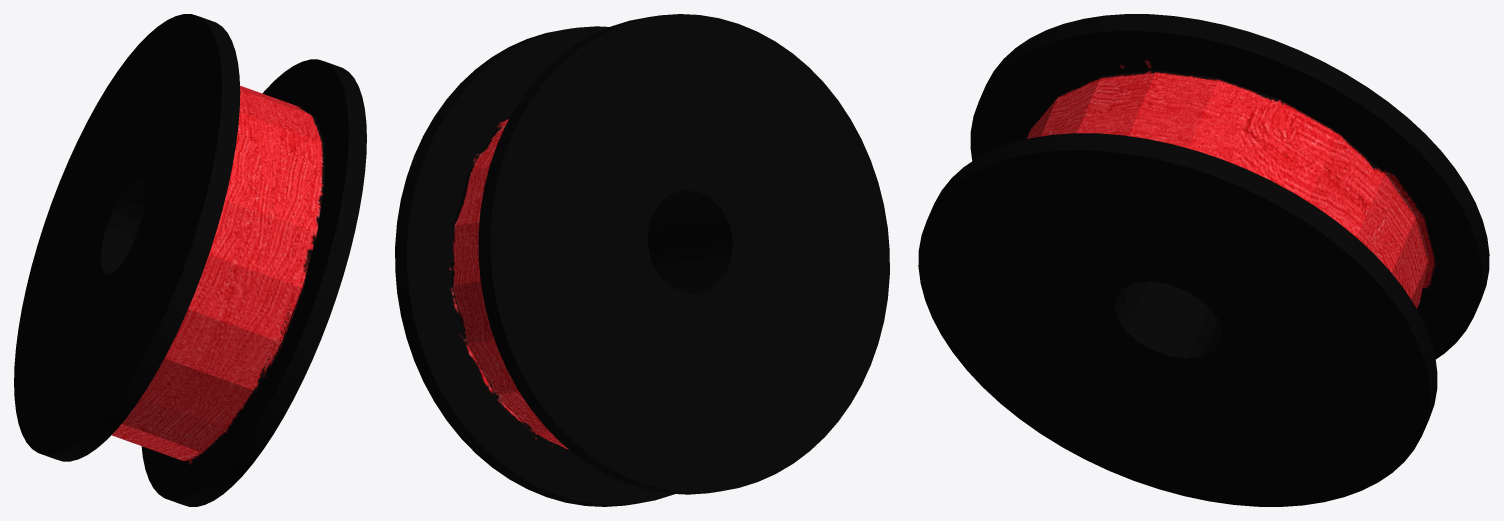
The model's file is spool.glb.
The picture shows the model from 3 angles, left to right: view 1: azimuth 30°, elevation 25°; view 2: azimuth 150°, elevation 25°; view 3: azimuth 270°, elevation 25°; orthographic projection. The views are drawn at different scales.
Parts seen in each view (by area): view 1: node_id5_1; view 2: node_id5_1; view 3: node_id5_1.
Boxes of the visible parts, bbox=[...] form: node_id5_1: bbox=[14, 14, 366, 506]; node_id5_1: bbox=[395, 14, 889, 506]; node_id5_1: bbox=[918, 14, 1489, 506].
Size of the model in its own units: 0.4155 by 0.5279 by 0.5405.
Materials: 1 (1 with a texture image).
